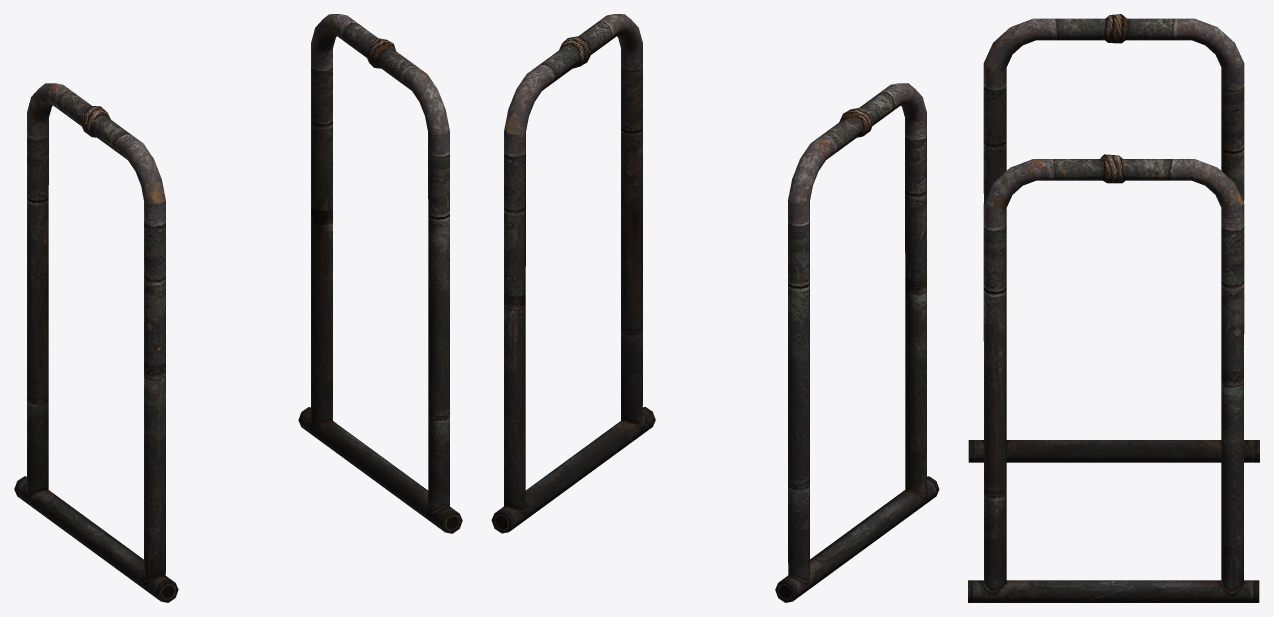
The model's file is frame.dae.
3 renders of one model, left to right at view 1: azimuth 30°, elevation 25°; view 2: azimuth 150°, elevation 25°; view 3: azimuth 270°, elevation 25°, orthographic.
Parts seen in each view (by area): view 1: frame; view 2: frame; view 3: frame.
Boxes of the visible parts, box(x1,y1,x2,y2) form: frame: box(14, 14, 462, 602); frame: box(491, 14, 939, 602); frame: box(968, 14, 1259, 602).
Size of the model in its own units: 0.8405 by 1.15 by 0.6778.
Materials: 1 (1 with a texture image).
